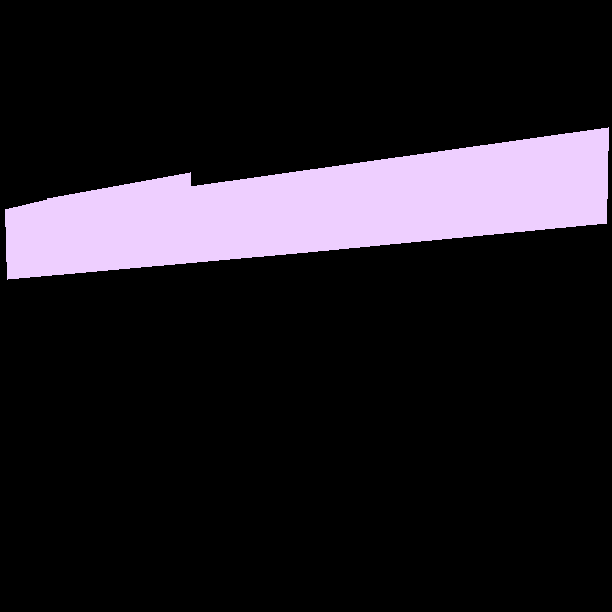Train: (5, 127, 609, 280)
